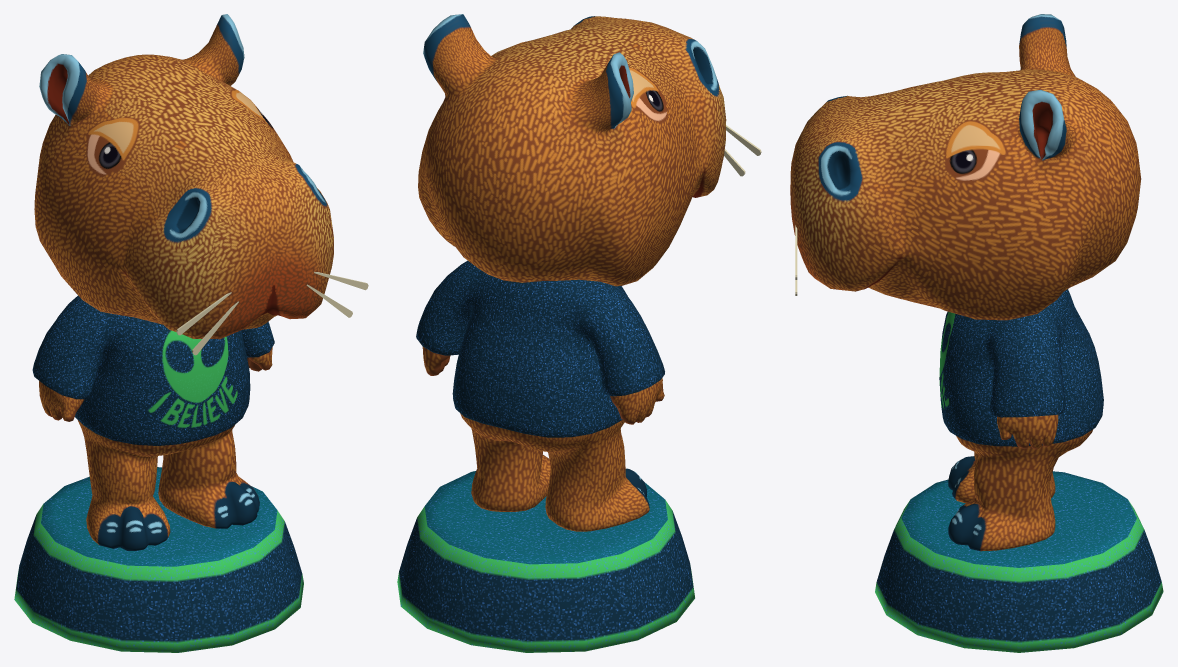
Rendered from Crapibara_03.fbx.
3 renders of one model, left to right at view 1: azimuth 30°, elevation 25°; view 2: azimuth 150°, elevation 25°; view 3: azimuth 270°, elevation 25°, orthographic. The views are drawn at different scales.
Parts seen in each view (by area): view 1: Crapibara; view 2: Crapibara; view 3: Crapibara.
Part boxes in pixels (x1,y1,x2,y2): Crapibara: (14, 14, 368, 652); Crapibara: (397, 14, 761, 652); Crapibara: (790, 14, 1163, 652).
Size of the model in its own units: 386 by 797 by 498.
